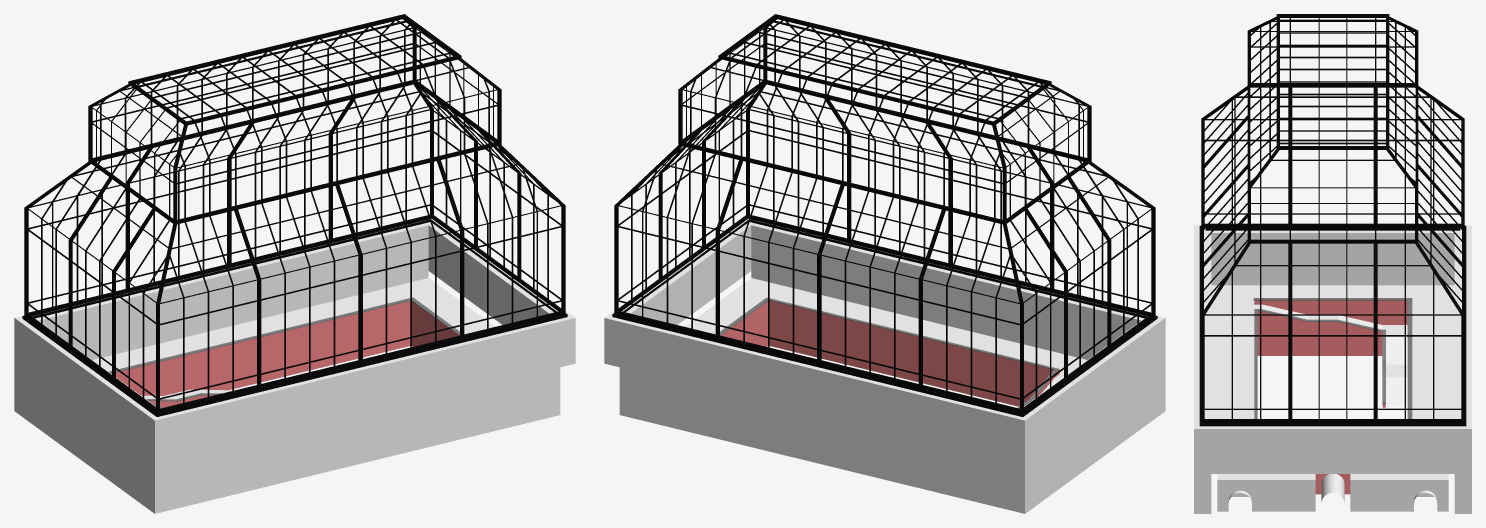
The picture shows the model from 3 angles, left to right: view 1: azimuth 30°, elevation 25°; view 2: azimuth 150°, elevation 25°; view 3: azimuth 270°, elevation 25°; orthographic projection.
Visible parts, largest first — view 1: gh_bottom, gh_top; view 2: gh_bottom, gh_top; view 3: gh_bottom, gh_top.
Boxes of the visible parts, <box> form: gh_bottom: <box>14,215,575,513</box>; gh_top: <box>22,14,567,416</box>; gh_bottom: <box>604,215,1165,513</box>; gh_top: <box>612,14,1157,416</box>; gh_bottom: <box>1194,225,1471,513</box>; gh_top: <box>1199,14,1466,426</box>.
Size of what is drawn, in the model's own units: 83 by 64.6 by 48.
